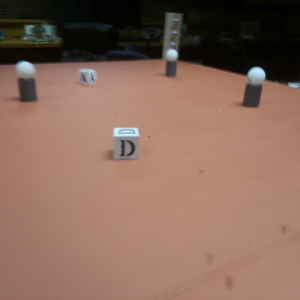blockA: (79, 70, 96, 85)
blockD: (112, 126, 139, 160)
corner: (160, 10, 183, 58)
obstacle: (241, 63, 266, 109), (15, 61, 36, 99), (164, 49, 180, 77)
